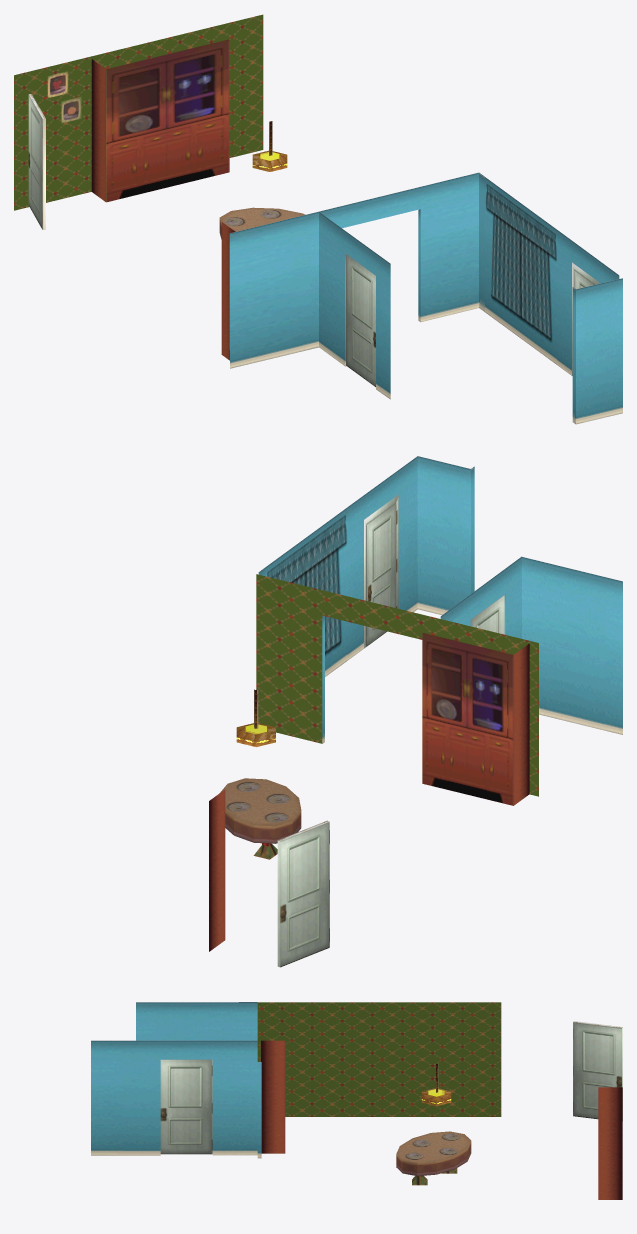
File: DINING.glb
3 renders of one model, top to bottom at view 1: azimuth 30°, elevation 25°; view 2: azimuth 150°, elevation 25°; view 3: azimuth 270°, elevation 25°, orthographic. The views are drawn at different scales.
Visible parts, largest first — view 1: DINING; view 2: DINING; view 3: DINING.
Part boxes in pixels (x1,y1,x2,y2): DINING: [14, 14, 622, 424]; DINING: [209, 456, 622, 967]; DINING: [91, 1002, 622, 1199].
Bounding box in the file's own units: 1202 × 628 × 2999.
9 materials, 9 textured.
